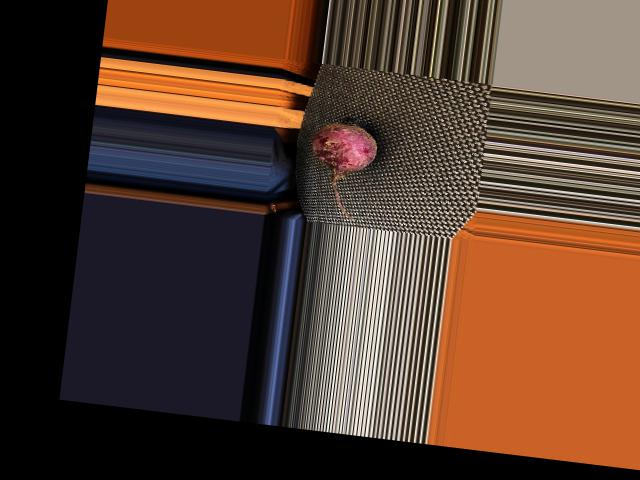beet: (302, 111, 379, 220)
